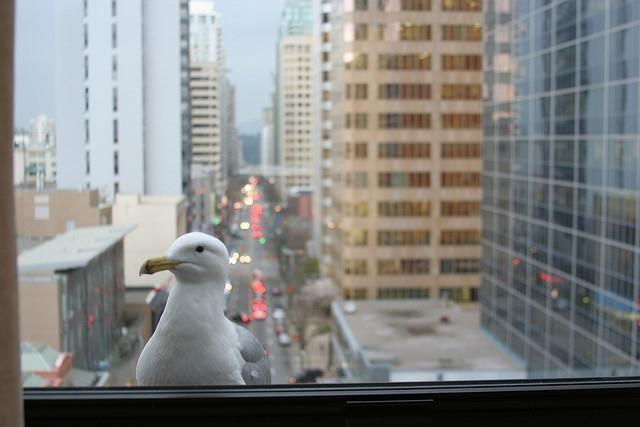car: (285, 365, 317, 383), (226, 310, 253, 324), (270, 302, 286, 322), (275, 332, 292, 346), (252, 282, 266, 293), (252, 310, 266, 320), (276, 324, 286, 334), (240, 221, 251, 230), (272, 286, 280, 296), (256, 235, 263, 241)
